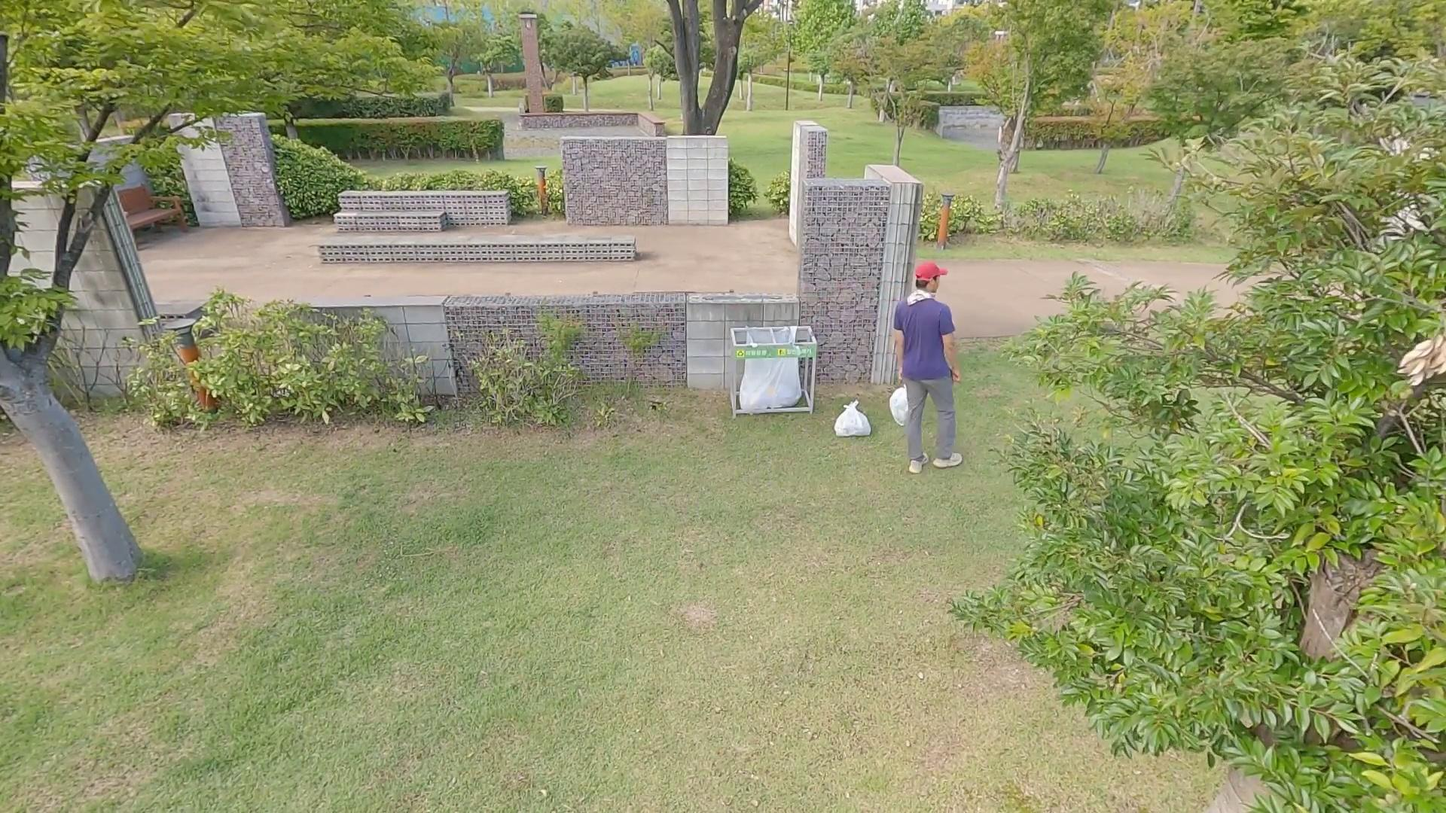person: (894, 259, 965, 476)
trash: (888, 382, 920, 429), (835, 400, 871, 438)
